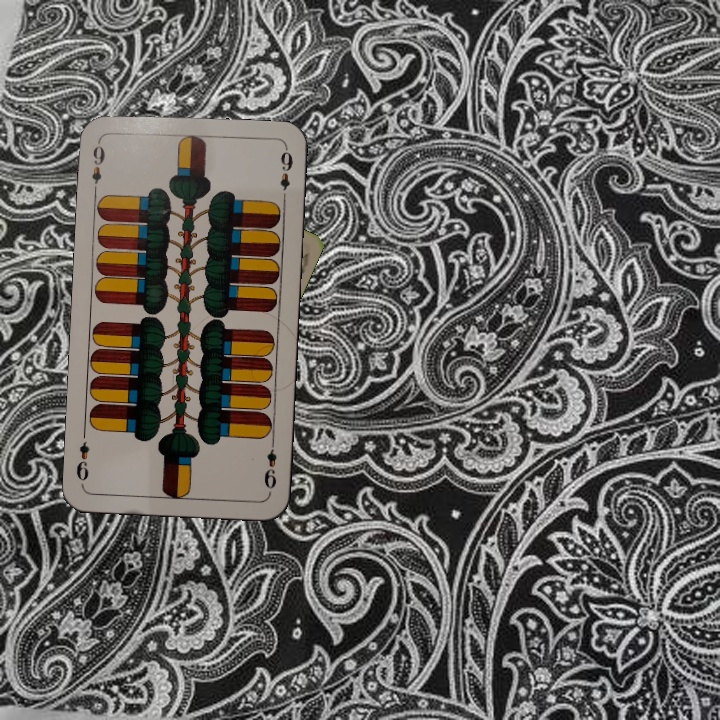E9: (87, 137, 108, 196), (260, 436, 279, 495)
